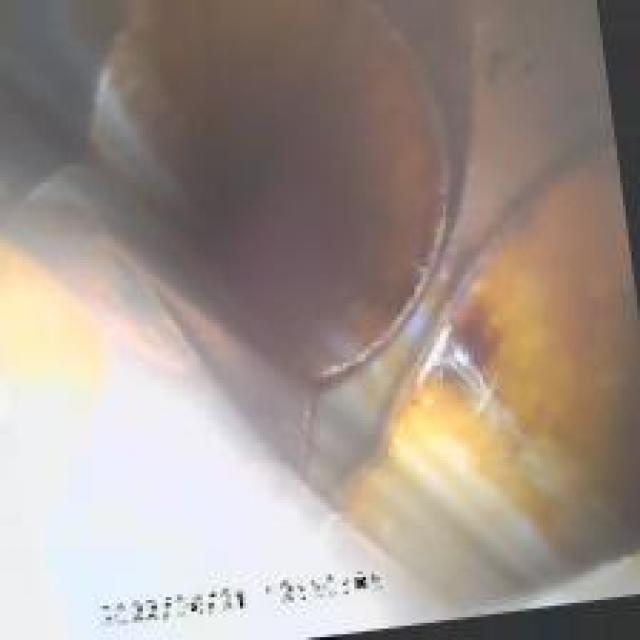joint: (77, 23, 606, 574)
